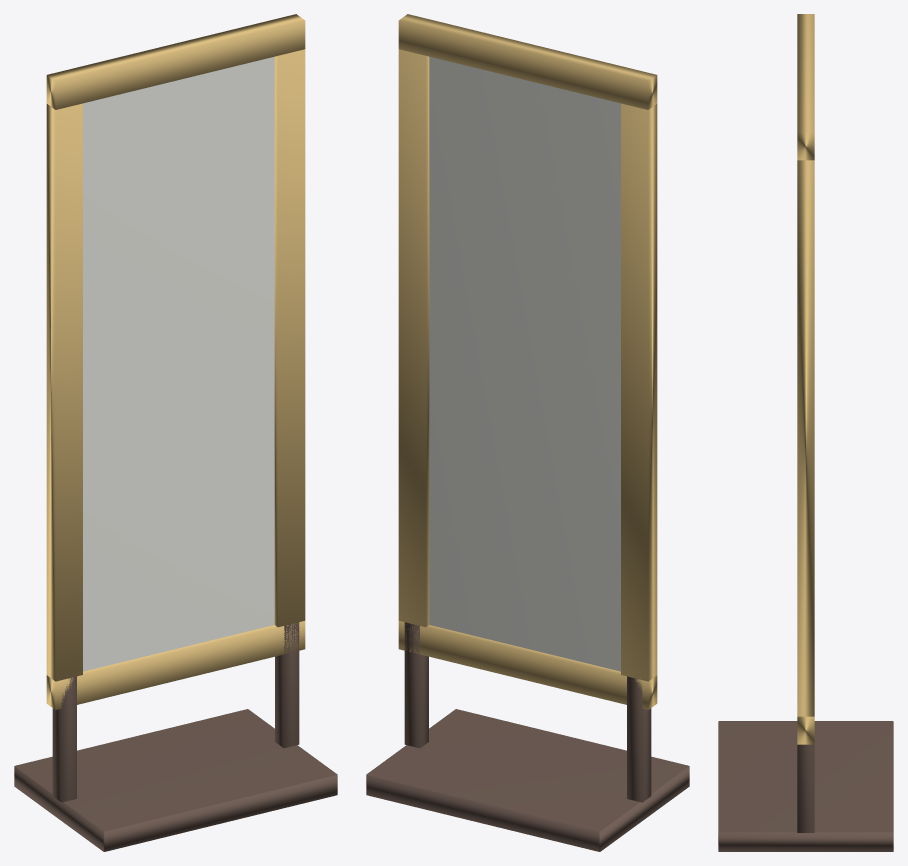
3 renders of one model, left to right at view 1: azimuth 30°, elevation 25°; view 2: azimuth 150°, elevation 25°; view 3: azimuth 270°, elevation 25°, orthographic. The views are drawn at different scales.
Parts seen in each view (by area): view 1: Mirror_Surface, Frame_Complete, Base, Stand_Complete; view 2: Mirror_Surface, Frame_Complete, Base, Stand_Complete; view 3: Base, Frame_Complete, Stand_Complete.
Part boxes in pixels (x1,y1,x2,y2): Mirror_Surface: (83, 56, 274, 671); Frame_Complete: (46, 14, 305, 709); Base: (14, 709, 337, 851); Stand_Complete: (52, 622, 299, 802); Mirror_Surface: (429, 56, 620, 671); Frame_Complete: (398, 14, 657, 709); Base: (366, 709, 689, 851); Stand_Complete: (404, 622, 651, 802); Base: (718, 721, 893, 851); Frame_Complete: (797, 14, 814, 744); Stand_Complete: (797, 744, 814, 832).
Bounding box in the file's own units: 0.64 × 1.82 × 0.4.
